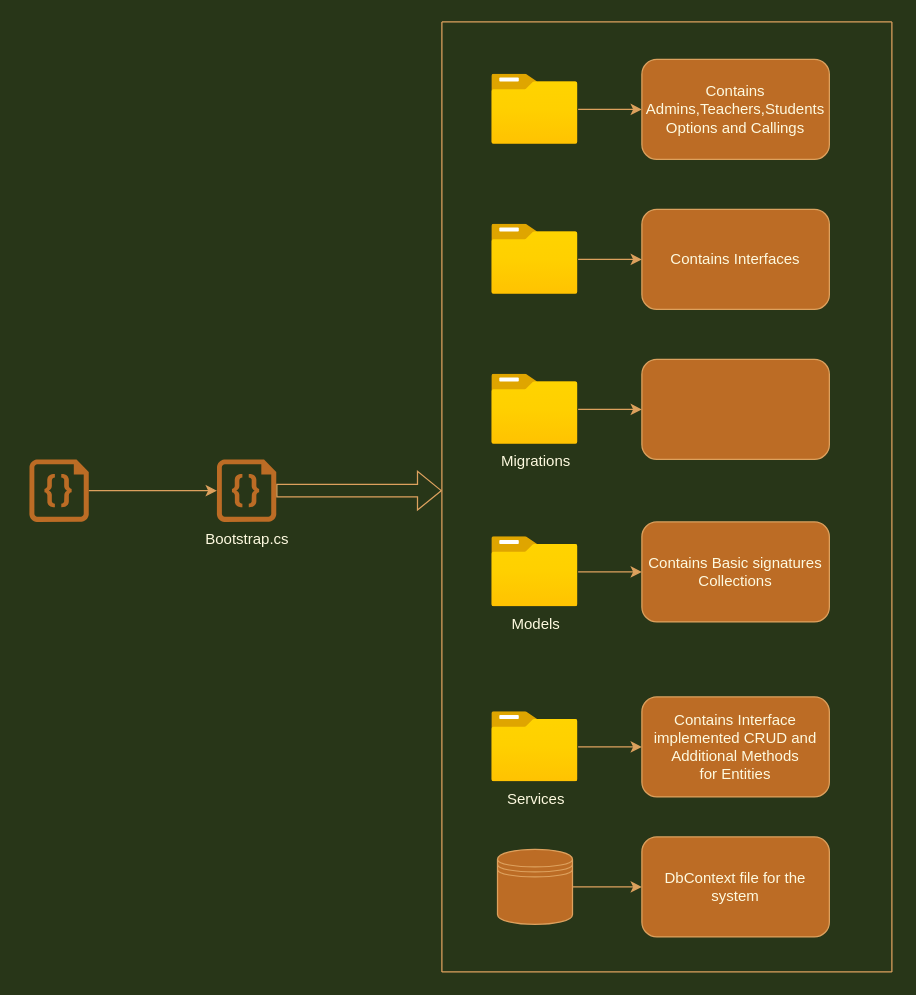
The diagram is 916 pixels wide and 995 high, and some of its shapes have lost their labels. The box of each missing label's shape, as (x1, y1, x2, y2) in pixels:
Contains Migration files generated by Entity Framwork and fFluent API: (641, 358, 829, 459)
HomePage: (491, 74, 578, 144)
Interfaces: (491, 224, 578, 294)
Program.cs: (29, 459, 88, 521)
